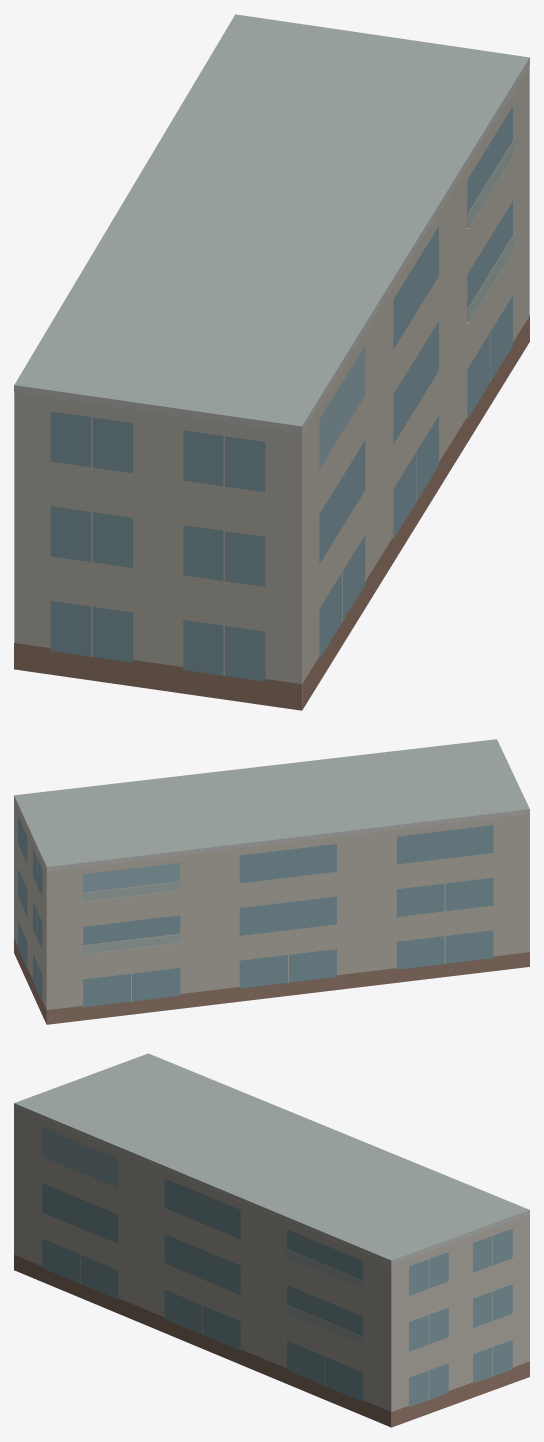
File: survey-upis-32757419.glb
3 renders of one model, top to bottom at view 1: azimuth 30°, elevation 25°; view 2: azimuth 150°, elevation 25°; view 3: azimuth 270°, elevation 25°, orthographic. The views are drawn at different scales.
Visible parts, largest first — view 1: survey-upis-32757419.tmp; view 2: survey-upis-32757419.tmp; view 3: survey-upis-32757419.tmp.
Part boxes in pixels (<box>): survey-upis-32757419.tmp: <box>14,14,529,710</box>; survey-upis-32757419.tmp: <box>14,739,529,1024</box>; survey-upis-32757419.tmp: <box>14,1053,529,1427</box>.
Size of the model in its own units: 24.35 by 9.15 by 25.62.
